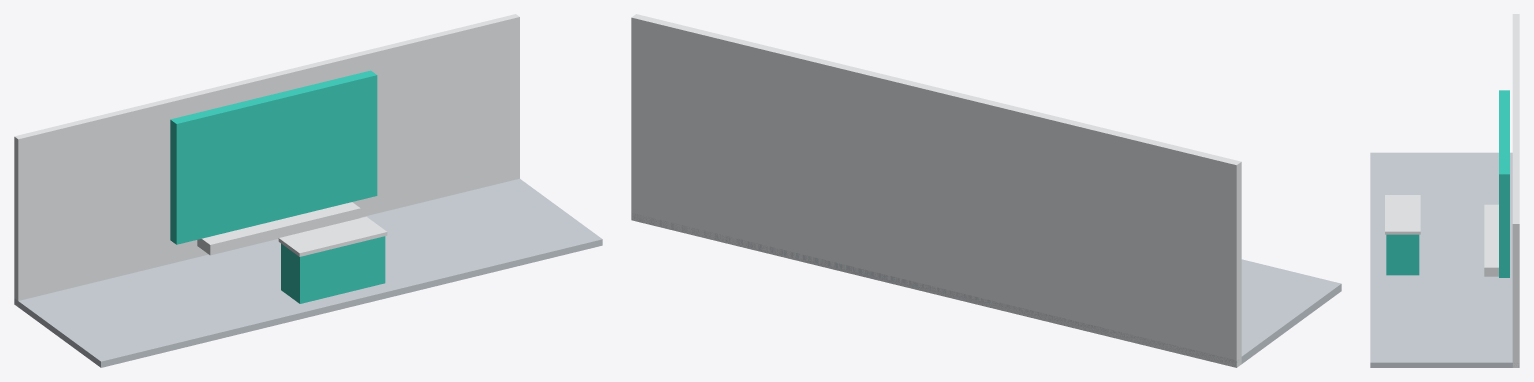
The picture shows the model from 3 angles, left to right: view 1: azimuth 30°, elevation 25°; view 2: azimuth 150°, elevation 25°; view 3: azimuth 270°, elevation 25°; orthographic projection. The views are drawn at different scales.
Visible parts, largest first — view 1: Exhibition Booth Concept; view 2: Exhibition Booth Concept; view 3: Exhibition Booth Concept.
Part boxes in pixels (x1,y1,x2,y2): Exhibition Booth Concept: (14, 14, 602, 367); Exhibition Booth Concept: (631, 14, 1341, 367); Exhibition Booth Concept: (1370, 14, 1519, 367).
Size of the model in its own units: 10 by 3.2 by 3.
